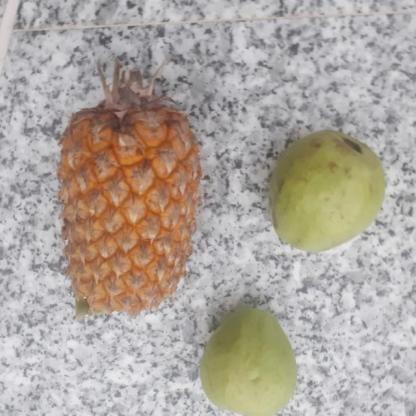guava: (261, 134, 385, 249), (194, 304, 296, 414)
pineapple: (56, 102, 200, 318)
